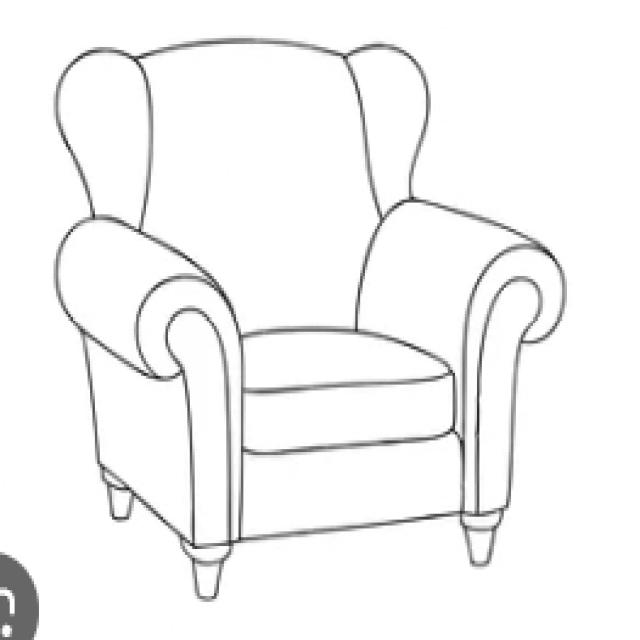Backrest: (134, 38, 384, 342)
Leg_Structure: (99, 460, 506, 604)
Seat: (241, 328, 455, 454)
Wing_Flange: (52, 46, 154, 236), (345, 44, 429, 224)
sofa_armrest: (356, 196, 568, 513), (54, 215, 244, 545)
